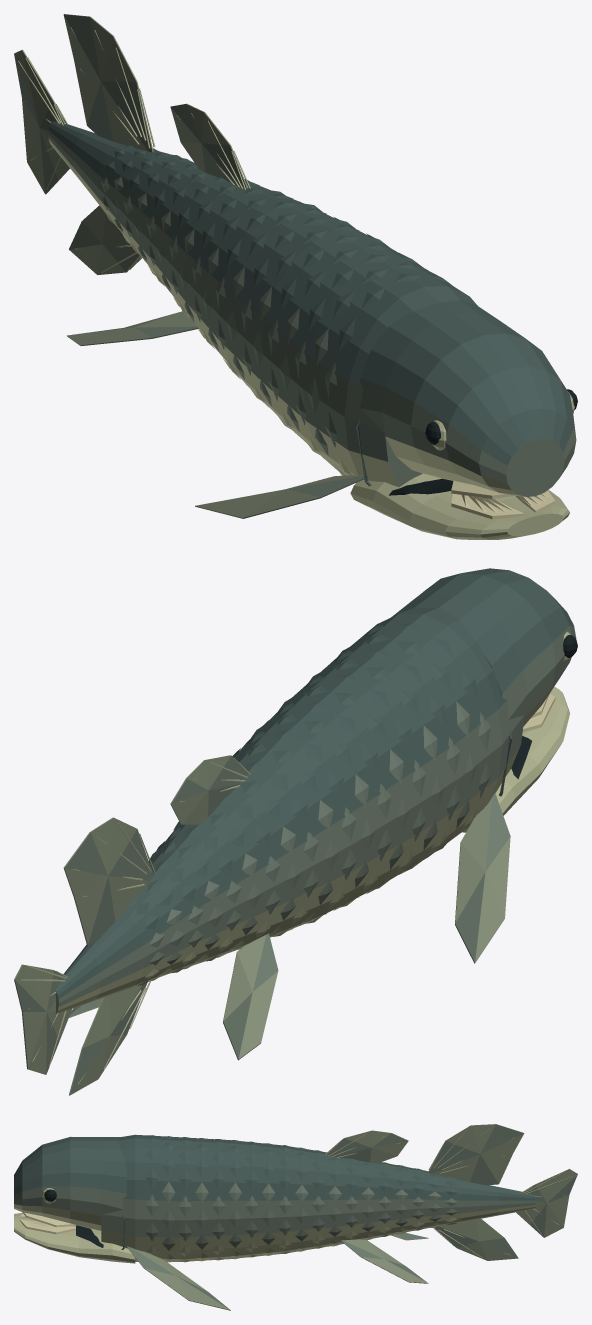
3 views of the same model, one above another, from view 1: azimuth 30°, elevation 25°; view 2: azimuth 150°, elevation 25°; view 3: azimuth 270°, elevation 25° (orthographic). The views are drawn at different scales.
Visible parts, largest first — view 1: Robust_trunk_to_caudal_peduncle, Broad_blunt_upper_skull, Subordinate_rhomboid_scale_field, Dorsal_2_separate_larger, Lower_jaw_and_throat, Caudal_asymmetric_unforked, Dorsal_1_separate_smaller, Anal_pointed_leaf, Pectoral_L_fleshy_leaf, Pelvic_L_fleshy_leaf, Median_fin_radial_ribs, Paired_upper_and_lower_tooth_plates (+1 smaller); view 2: Robust_trunk_to_caudal_peduncle, Subordinate_rhomboid_scale_field, Broad_blunt_upper_skull, Dorsal_2_separate_larger, Pectoral_L_fleshy_leaf, Pelvic_L_fleshy_leaf, Caudal_asymmetric_unforked, Anal_pointed_leaf, Dorsal_1_separate_smaller, Lower_jaw_and_throat, Median_fin_radial_ribs; view 3: Robust_trunk_to_caudal_peduncle, Subordinate_rhomboid_scale_field, Broad_blunt_upper_skull, Dorsal_2_separate_larger, Lower_jaw_and_throat, Caudal_asymmetric_unforked, Anal_pointed_leaf, Dorsal_1_separate_smaller, Pectoral_R_fleshy_leaf, Pelvic_R_fleshy_leaf, Median_fin_radial_ribs, Paired_upper_and_lower_tooth_plates (+1 smaller).
Boxes of the visible parts, x1,y1,x2,y2 form: Robust_trunk_to_caudal_peduncle: (48, 121, 477, 487); Broad_blunt_upper_skull: (360, 300, 576, 496); Subordinate_rhomboid_scale_field: (101, 145, 453, 475); Dorsal_2_separate_larger: (63, 14, 153, 152); Lower_jaw_and_throat: (350, 473, 569, 539); Caudal_asymmetric_unforked: (14, 49, 69, 194); Dorsal_1_separate_smaller: (170, 103, 247, 188); Anal_pointed_leaf: (69, 205, 141, 274); Pectoral_L_fleshy_leaf: (195, 475, 367, 518); Pelvic_L_fleshy_leaf: (67, 311, 198, 345); Median_fin_radial_ribs: (18, 27, 250, 272); Paired_upper_and_lower_tooth_plates: (451, 481, 555, 519); Robust_trunk_to_caudal_peduncle: (55, 607, 524, 1013); Subordinate_rhomboid_scale_field: (127, 622, 490, 985); Broad_blunt_upper_skull: (391, 568, 576, 726); Dorsal_2_separate_larger: (63, 817, 153, 945); Pectoral_L_fleshy_leaf: (455, 792, 510, 963); Pelvic_L_fleshy_leaf: (223, 933, 278, 1060); Caudal_asymmetric_unforked: (14, 964, 71, 1074); Anal_pointed_leaf: (69, 982, 147, 1095); Dorsal_1_separate_smaller: (170, 755, 247, 824); Lower_jaw_and_throat: (462, 686, 569, 832); Median_fin_radial_ribs: (21, 758, 250, 1084); Robust_trunk_to_caudal_peduncle: (101, 1134, 535, 1261); Subordinate_rhomboid_scale_field: (145, 1135, 457, 1262); Broad_blunt_upper_skull: (14, 1136, 126, 1230); Dorsal_2_separate_larger: (428, 1124, 524, 1185); Lower_jaw_and_throat: (14, 1213, 135, 1263); Caudal_asymmetric_unforked: (516, 1169, 577, 1237); Anal_pointed_leaf: (435, 1219, 518, 1260); Dorsal_1_separate_smaller: (327, 1130, 408, 1163); Pectoral_R_fleshy_leaf: (126, 1246, 230, 1310); Pelvic_R_fleshy_leaf: (340, 1239, 428, 1283); Median_fin_radial_ribs: (325, 1129, 571, 1257); Paired_upper_and_lower_tooth_plates: (19, 1212, 76, 1234).
Bounding box in the file's own units: 0.0621 × 0.0586 × 0.2.
